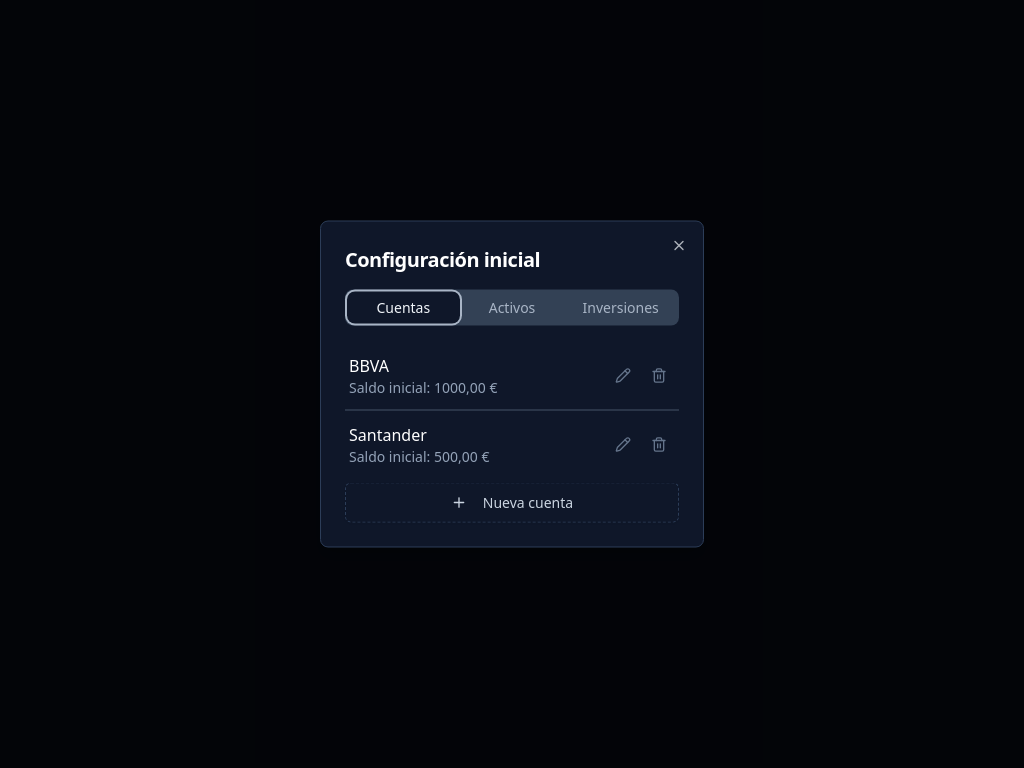
Test: AccountsModal › shows edit form when edit button is clicked
# Wait for accounts to load, then click edit on the first one
Click the button named "Editar BBVA" at (623, 376), box [607,360,639,392]
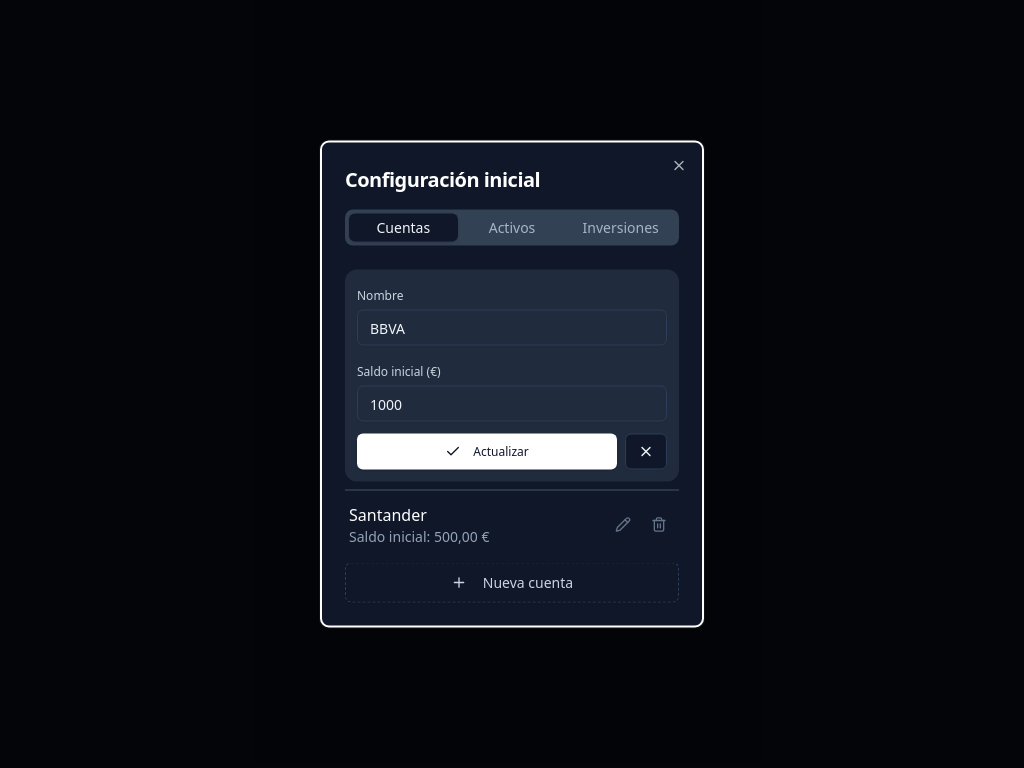
Result: the field labelled "Nombre" holds "BBVA" at [357,310,667,346]
Result: the button "Actualizar" is shown at [357,434,617,470]
